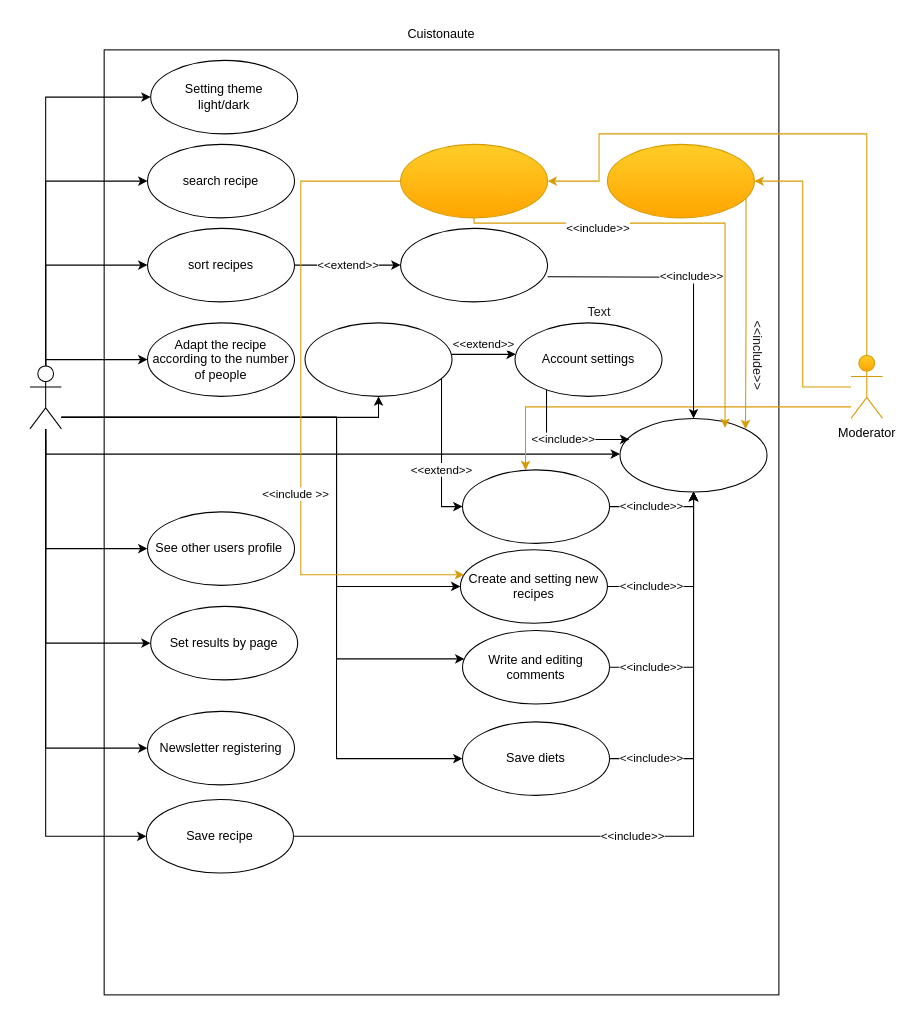
Image size: 913x1013. Some labels were removed from this diagram. Each missing label, with the box of its shape:
Authentification: (619, 417, 767, 492)
Create account: (304, 322, 452, 396)
Customer: (29, 365, 61, 429)
Delete account: (461, 469, 610, 543)
Manage comments: (606, 143, 754, 218)
Recipes registered: (400, 227, 548, 302)
Validate recipes: (400, 143, 548, 218)
